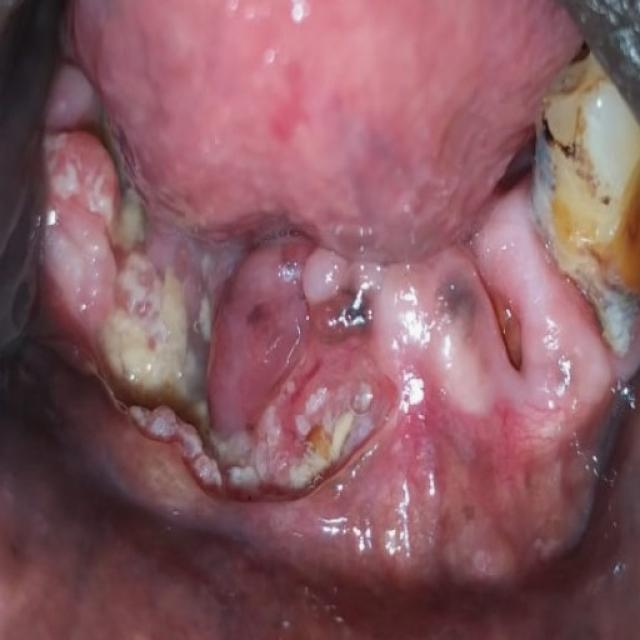leukoplakia-like-detection: (46, 94, 639, 509)
processing_area: (42, 0, 638, 549)
